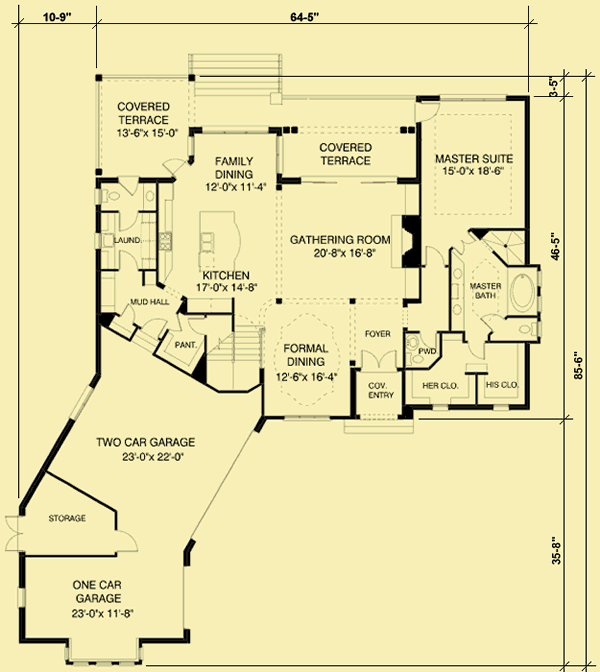door: (2, 512, 27, 554), (358, 347, 398, 371), (113, 529, 140, 556), (414, 101, 441, 125), (112, 210, 139, 234), (453, 232, 478, 256), (142, 314, 167, 337), (421, 243, 445, 266), (160, 155, 185, 176), (478, 310, 505, 329), (115, 248, 138, 269), (114, 178, 140, 196), (466, 340, 488, 358), (117, 302, 137, 321)
kitchen_bar: (192, 208, 242, 273)
large_sink: (515, 318, 538, 337), (404, 350, 423, 369), (100, 187, 119, 205)
stairs: (185, 47, 285, 105), (204, 326, 263, 393)
tub: (509, 266, 537, 313)
windows: (199, 122, 270, 138), (68, 656, 141, 669), (441, 92, 507, 104), (280, 412, 336, 422)
